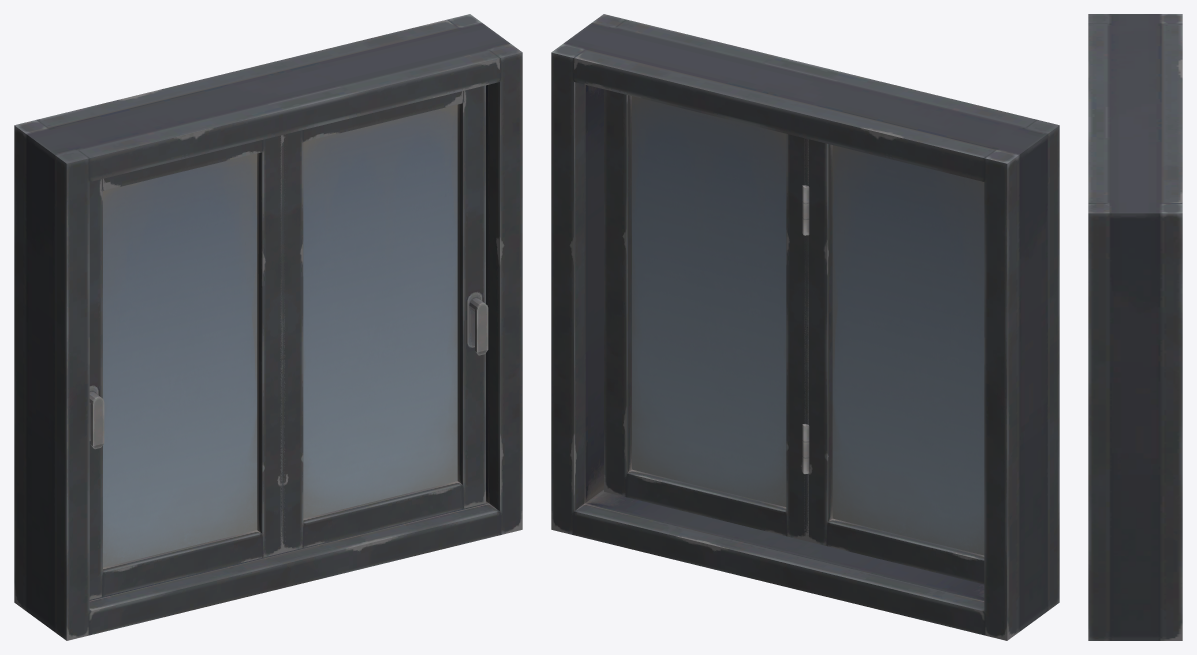
File: P_Window_00155_b.obj
The picture shows the model from 3 angles, left to right: view 1: azimuth 30°, elevation 25°; view 2: azimuth 150°, elevation 25°; view 3: azimuth 270°, elevation 25°; orthographic projection. The views are drawn at different scales.
Bounding box in the file's own units: 2 × 2 × 0.4.
5 materials, 5 textured.
